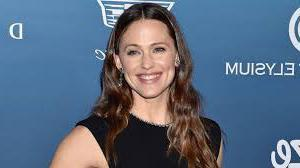face: (120, 19, 175, 99)
